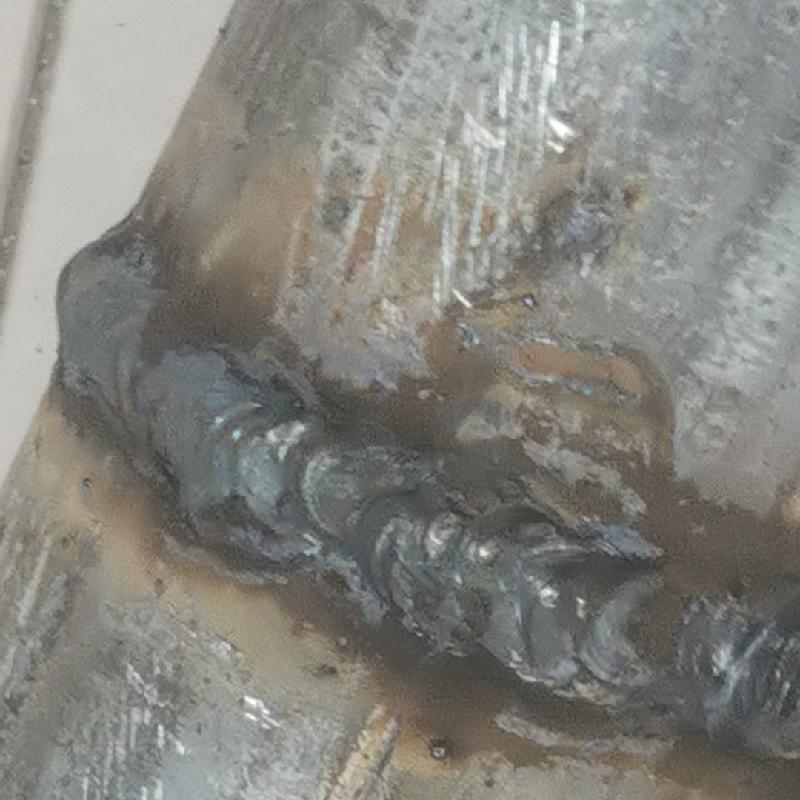good: (11, 199, 799, 769)
